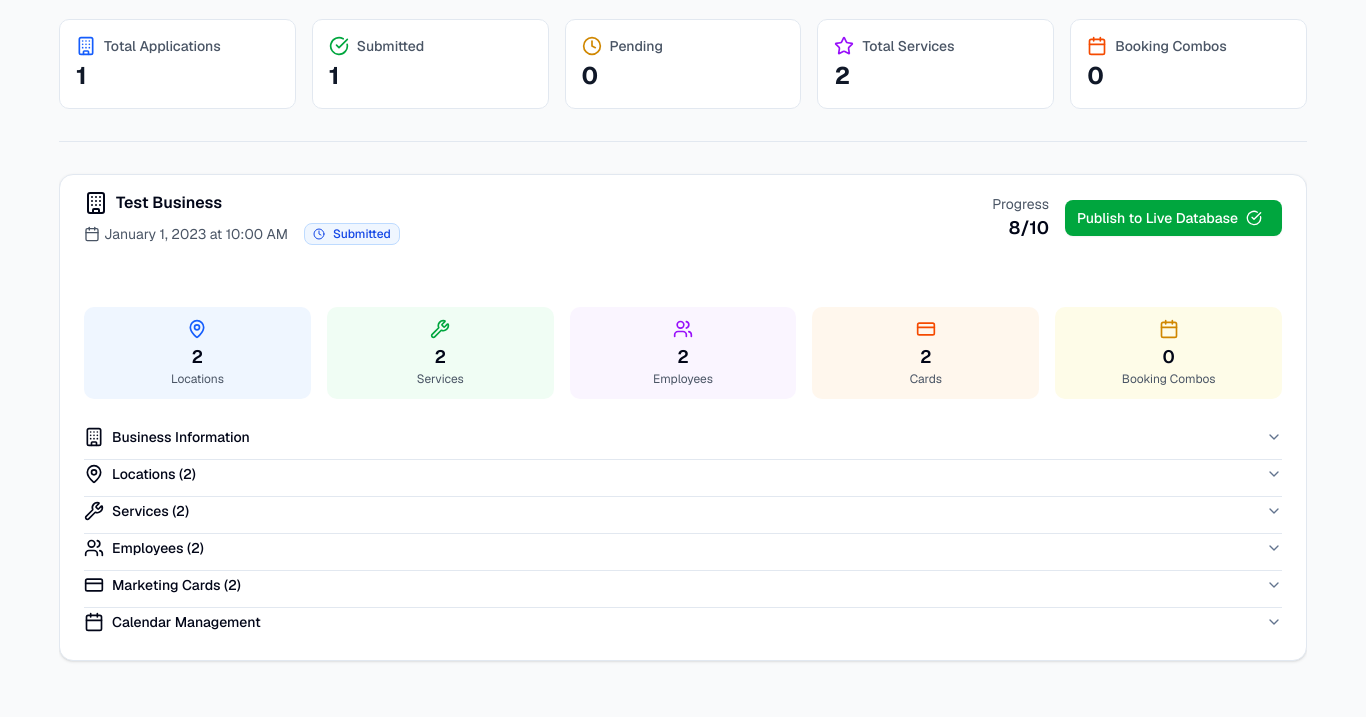
Test: AdminReviewClient › Card Details › should display card completion status
(page scrolled)
Click the button "Marketing Cards (2)". click: (170, 585)
box: left=84, top=571, right=1282, bottom=607
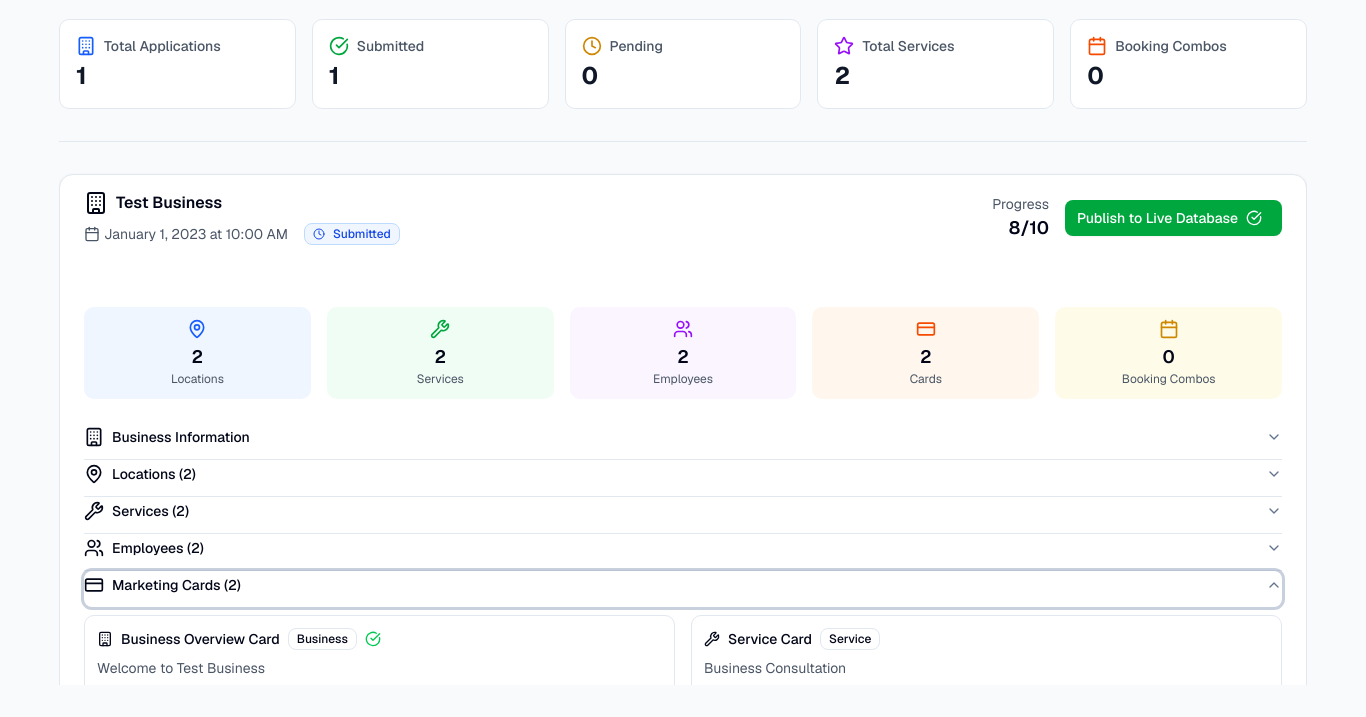
Expected: the element with test id "card-card-1" shows "Business Overview Card", left=121, top=630, right=280, bottom=648
Expected: the element with test id "card-card-1" shows "Welcome to Test Business", left=97, top=659, right=265, bottom=677
